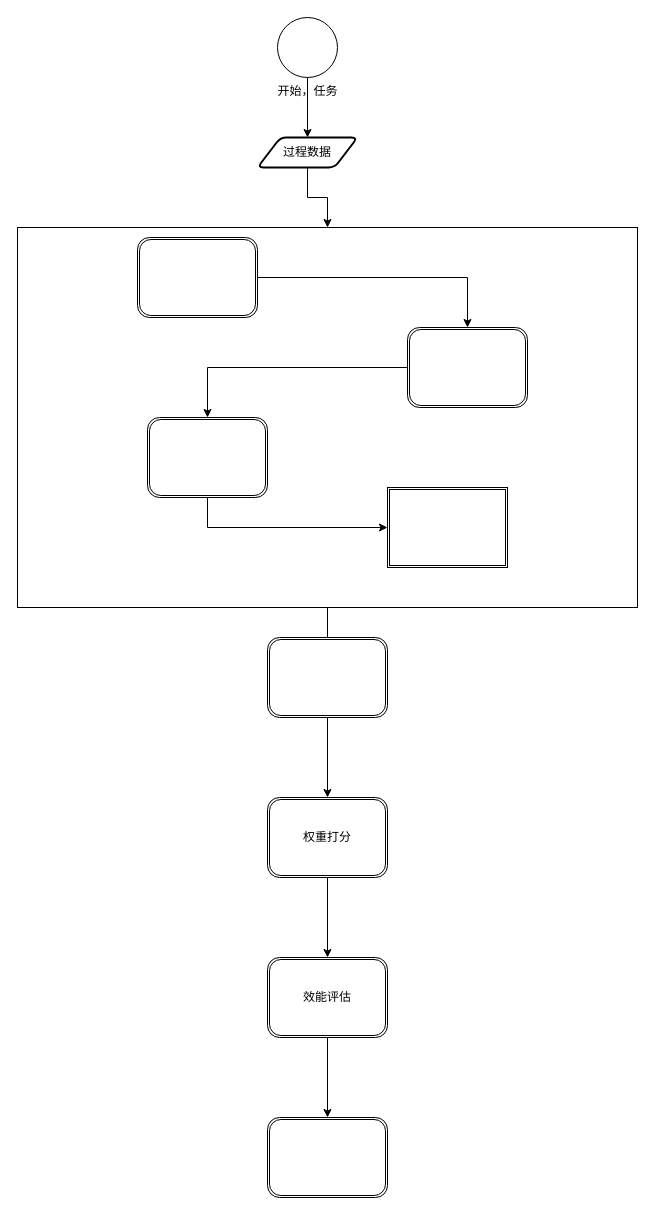
The diagram is 655 pixels wide and 1215 high, and some of its shapes have lost their labels. The centre of each missing label's shape, as x and y in pixels:
"灵敏度分析" belongs at point 327,1157.
"简历评估指标" belongs at point 327,677.
